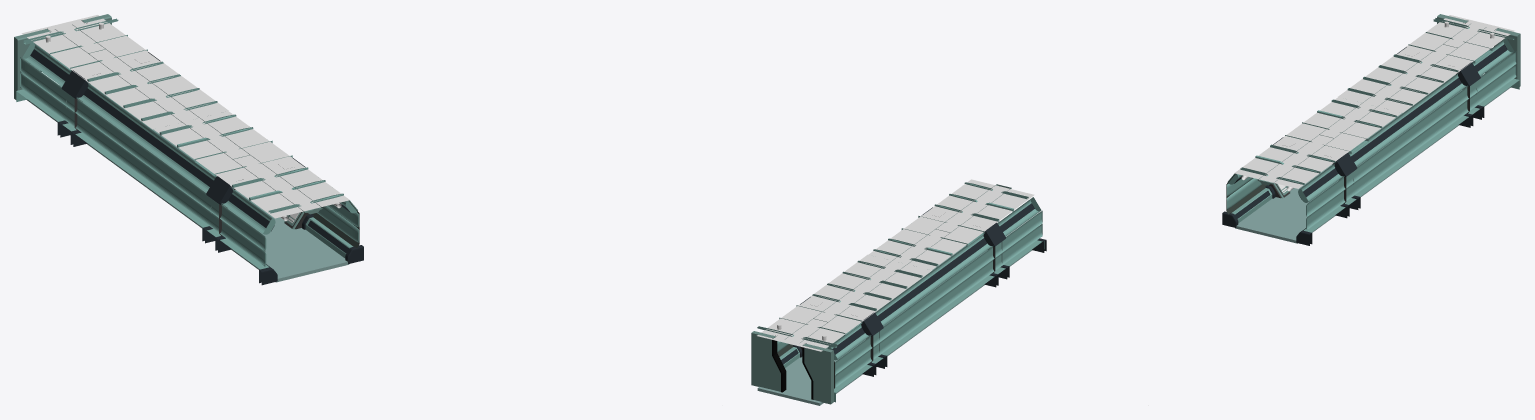
File: rouka.fbx
3 renders of one model, left to right at view 1: azimuth 30°, elevation 25°; view 2: azimuth 150°, elevation 25°; view 3: azimuth 330°, elevation 25°, orthographic. The views are drawn at different scales.
Visible parts, largest first — view 1: 立方体.021, 天井, 立方体.117, 立方体.116, 床, 立方体.104, 立方体.105, 立方体.108, 立方体.056; view 2: 立方体.021, 天井, 立方体.117, 立方体.116, 立方体.104, 床, 立方体.105, 立方体.026, 立方体.056, 立方体.108, 立方体.027, 立方体.114 (+1 smaller); view 3: 立方体.021, 天井, 立方体.083, 立方体.020, 床, 立方体.047, 立方体.050, 立方体.022, 立方体.026, 立方体.027, 立方体.116, 立方体.108 (+2 smaller).
Boxes of the visible parts, box(x1,y1,x2,y2) form: 立方体.021: box(21, 15, 228, 129); 天井: box(154, 111, 349, 218); 立方体.117: box(20, 57, 266, 251); 立方体.116: box(20, 72, 266, 266); 床: box(26, 84, 349, 282); 立方体.104: box(22, 43, 275, 234); 立方体.105: box(30, 49, 274, 231); 立方体.108: box(16, 89, 268, 269); 立方体.056: box(14, 29, 50, 99); 立方体.021: box(757, 254, 931, 351); 天井: box(868, 179, 1034, 270); 立方体.117: box(835, 210, 1042, 374); 立方体.116: box(835, 224, 1042, 387); 立方体.104: box(827, 197, 1041, 360); 床: box(757, 245, 1032, 405); 立方体.105: box(832, 203, 1034, 354); 立方体.026: box(751, 331, 780, 391); 立方体.056: box(803, 343, 833, 404); 立方体.108: box(834, 240, 1044, 402); 立方体.027: box(785, 184, 1011, 342); 立方体.114: box(861, 312, 883, 336); 立方体.021: box(1338, 15, 1514, 112); 天井: box(1234, 97, 1401, 188); 立方体.083: box(1306, 51, 1516, 216); 立方体.020: box(1306, 64, 1516, 229); 床: box(1235, 74, 1510, 243); 立方体.047: box(1298, 38, 1514, 202); 立方体.050: box(1299, 44, 1507, 199); 立方体.022: box(1303, 78, 1519, 232); 立方体.026: box(1487, 28, 1520, 86); 立方体.027: box(1257, 24, 1486, 185); 立方体.116: box(1226, 178, 1262, 209); 立方体.108: box(1231, 186, 1288, 222).
Size of the model in its own units: 2329 by 821 by 11340.
